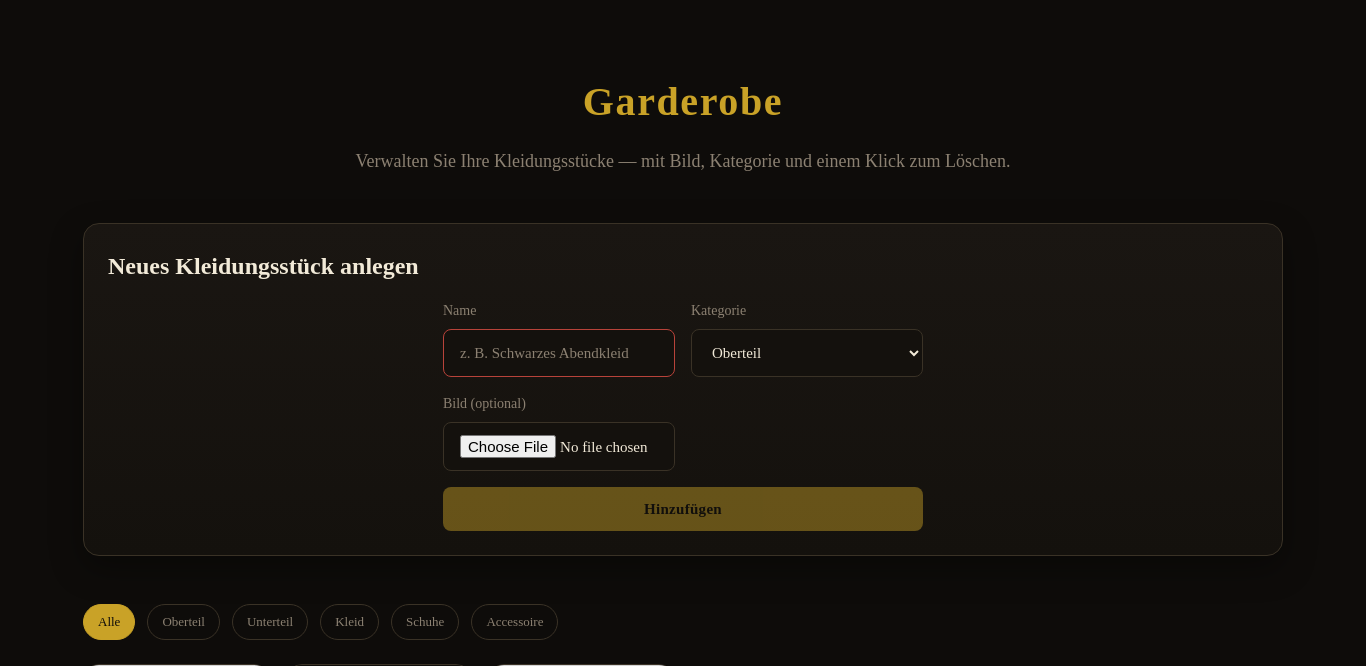
Scenario: Wardrobe › filtert die Garderobe nach Kategorie
Click the button "Schuhe" at (425, 622), box [391,604,459,640]
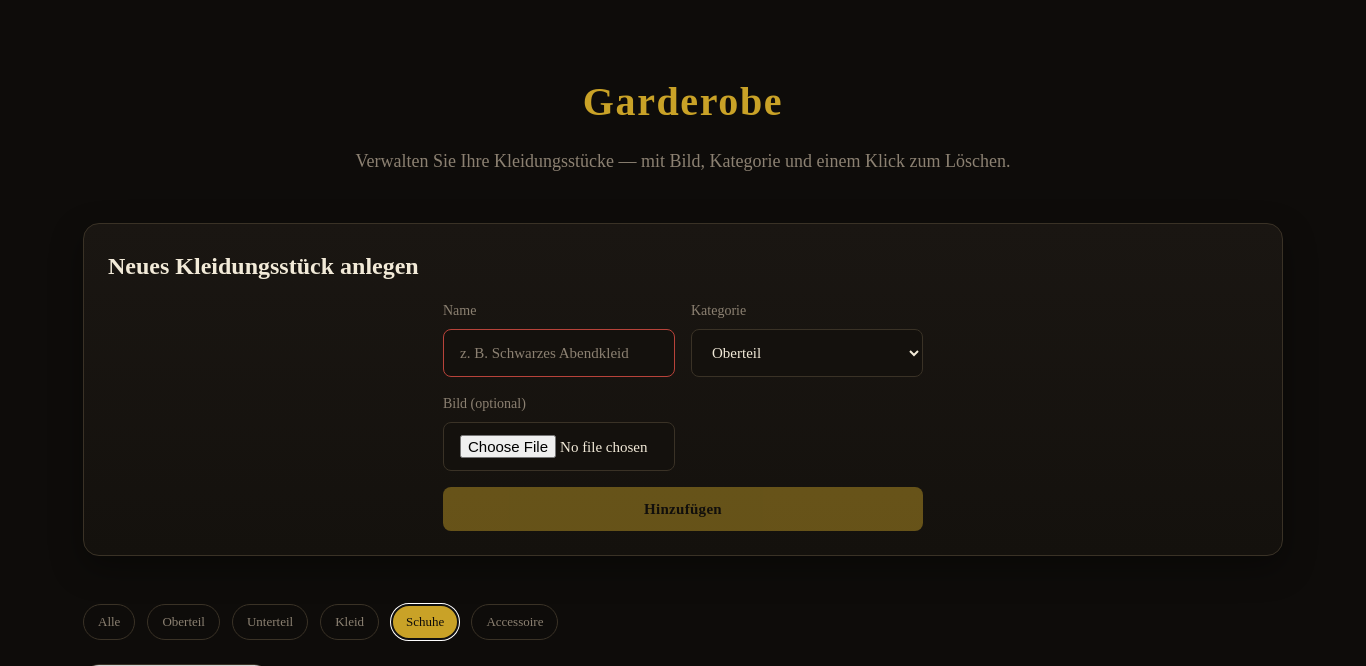
Expected: the list item "Schwarzes Kleid" is not shown
Click the button "Alle" at (109, 622), box [83,604,135,640]
(page scrolled)
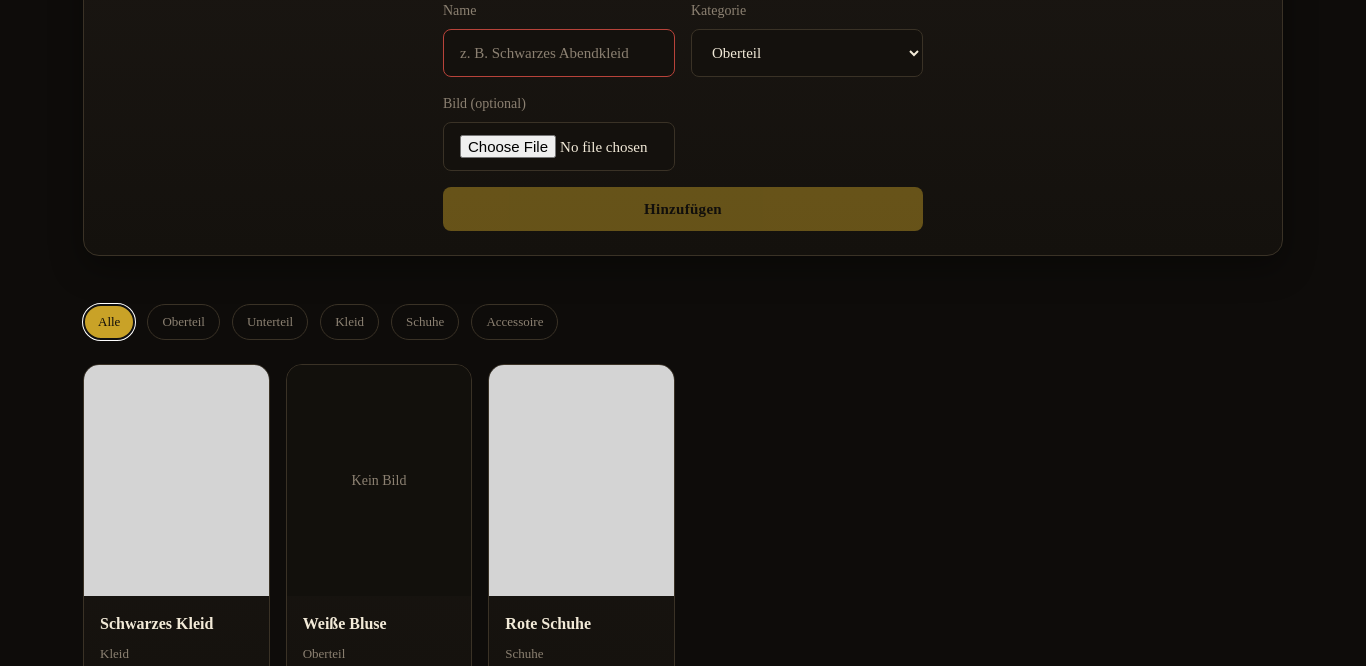
Expected: the heading "Schwarzes Kleid" is shown, [100,615,213,632]
